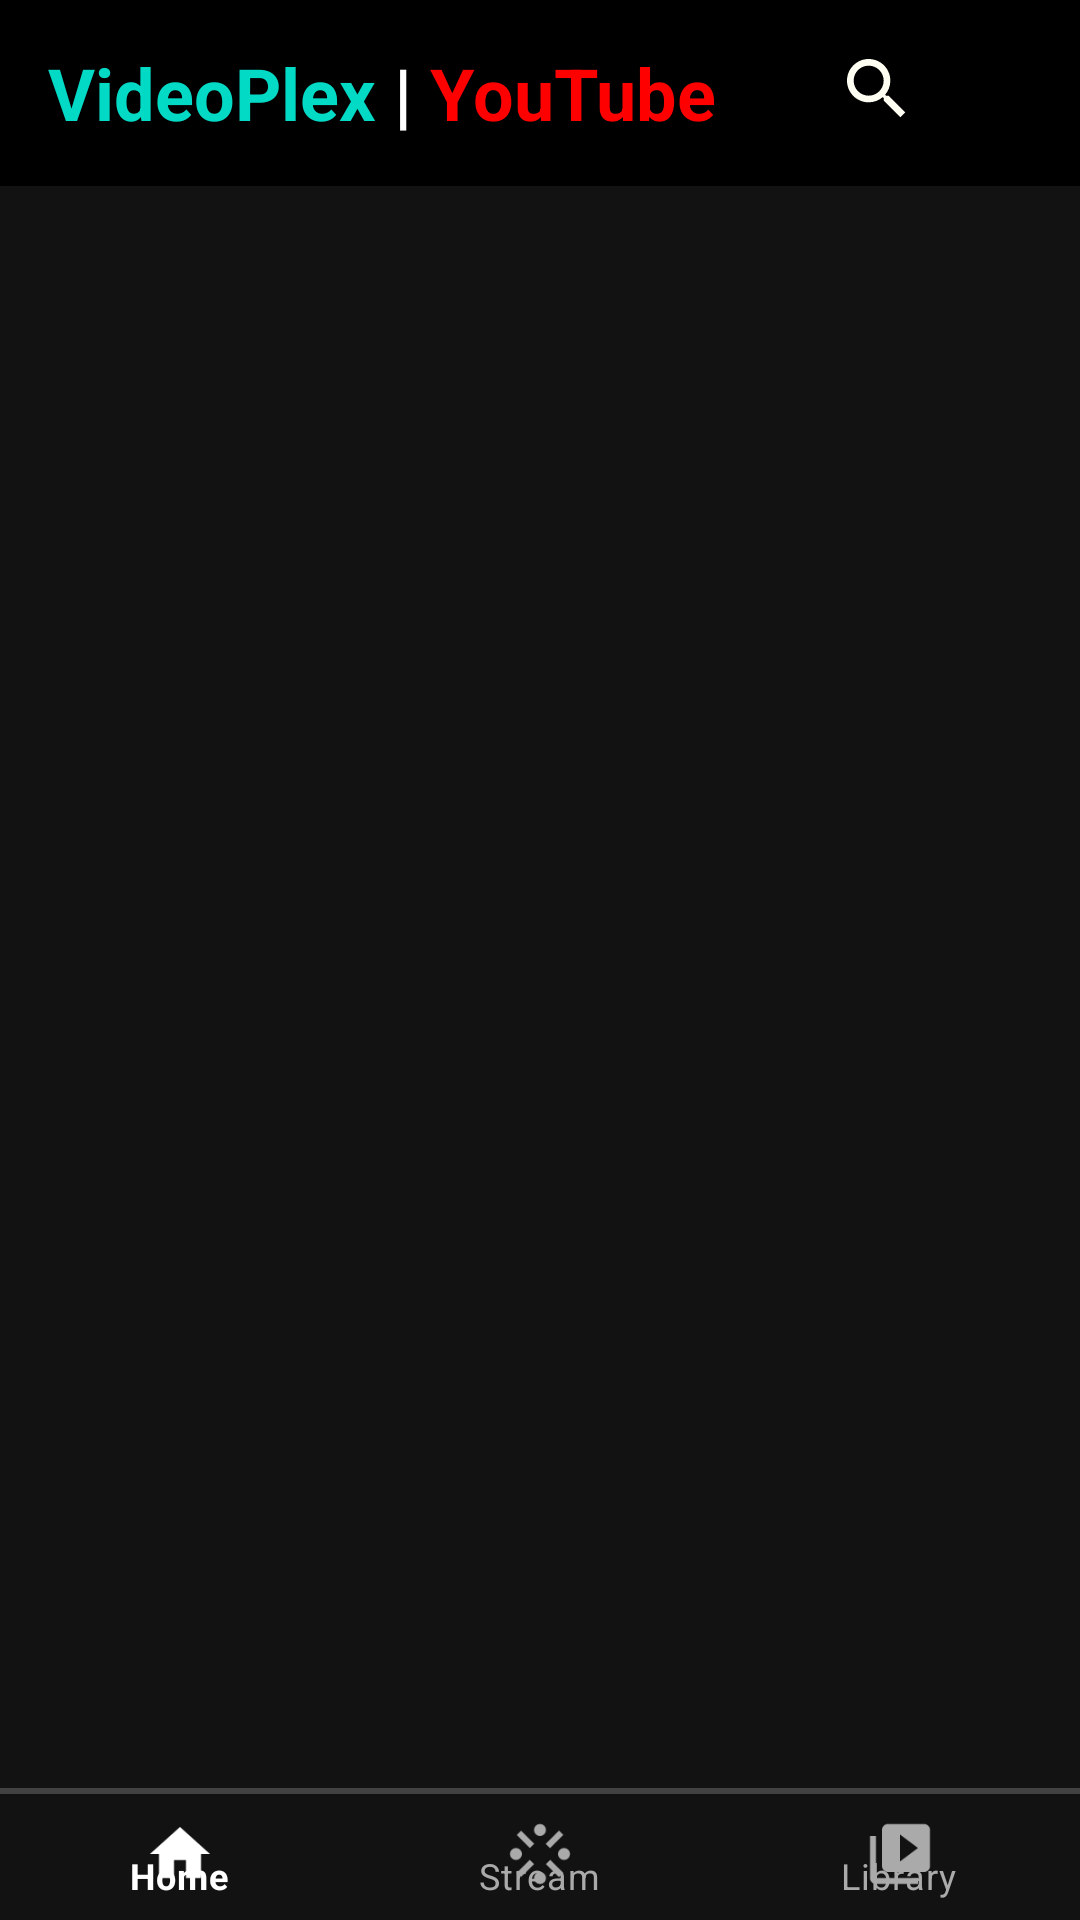

Icons on this 1080x1920 Android screen, each with its box as (x1, y1, x2, y2):
search: (847, 59, 905, 117)
